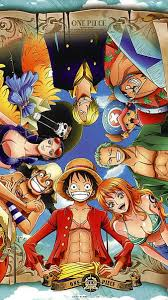chopper: (101, 94, 142, 144)
luffy: (54, 158, 106, 206)
